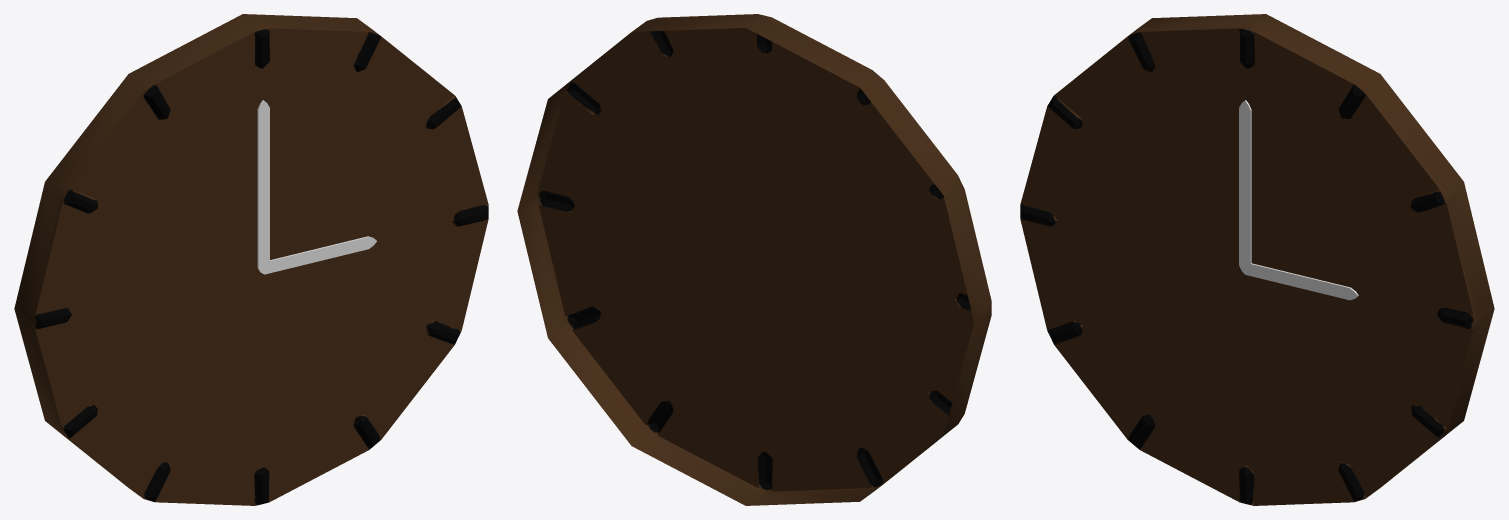
Rendered from Kello_Kisis.FBX.
The picture shows the model from 3 angles, left to right: view 1: azimuth 30°, elevation 25°; view 2: azimuth 150°, elevation 25°; view 3: azimuth 330°, elevation 25°; orthographic projection.
Parts seen in each view (by area): view 1: Kello, Minuuttiviisari, Tuntiviisari; view 2: Kello; view 3: Kello, Minuuttiviisari, Tuntiviisari.
Part boxes in pixels (<box>): Kello: <box>14,14,488,505</box>; Minuuttiviisari: <box>257,100,269,269</box>; Tuntiviisari: <box>258,236,376,274</box>; Kello: <box>517,14,991,505</box>; Kello: <box>1020,14,1494,505</box>; Minuuttiviisari: <box>1239,100,1251,272</box>; Tuntiviisari: <box>1240,263,1358,300</box>.
Bounding box in the file's own units: 63.07 × 63.07 × 5.32.
